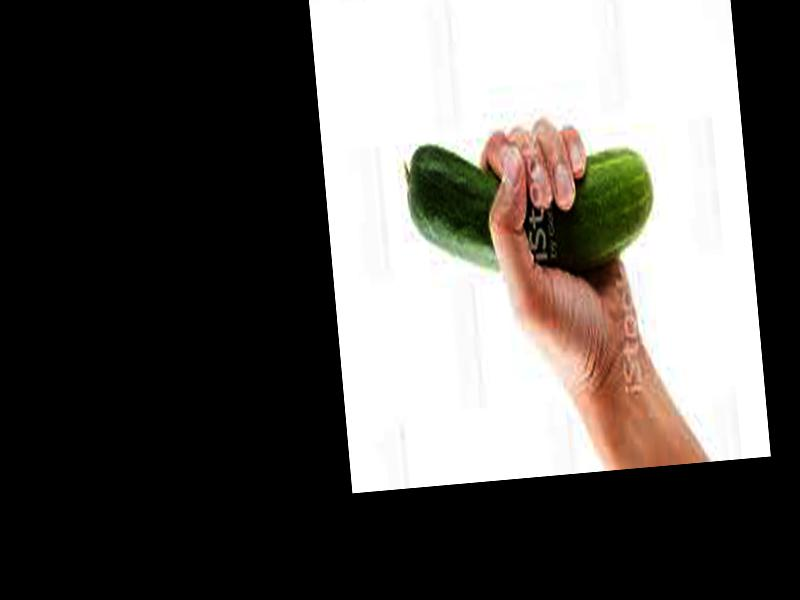Cucumber: (403, 123, 657, 287)
